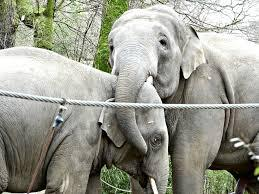elephant: (0, 5, 258, 102), (0, 96, 258, 193)
